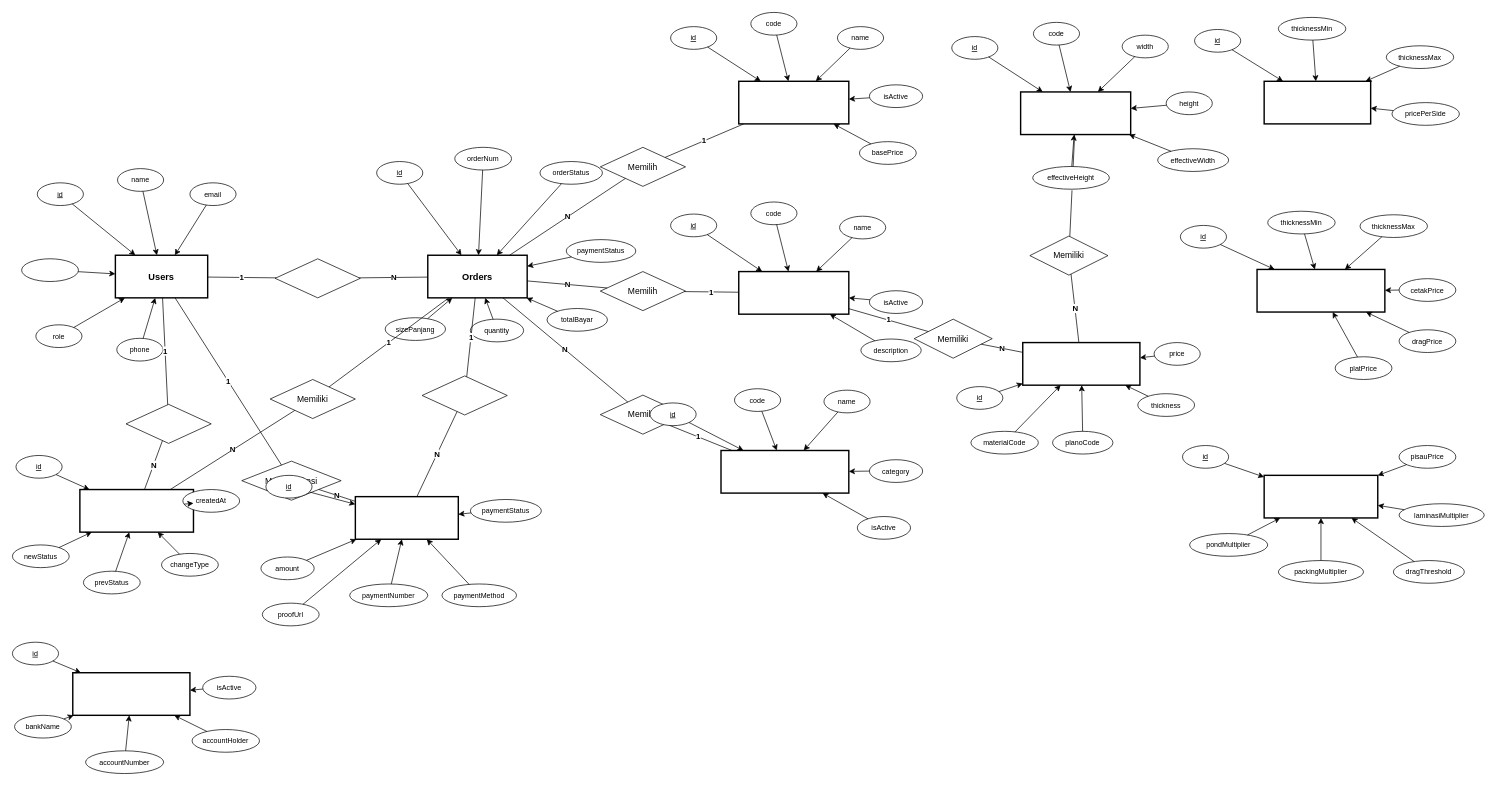
The diagram is 1497 pixels wide and 786 high, and some of its shapes have lost their labels. Each missing label, with the centre of its shape:
"Bank_Accounts" goes at point 131,694.
"Box_Models" goes at point 793,102.
"CmykBlok_Prices" goes at point 1320,290.
"Color_Prices" goes at point 1317,102.
"Finishing_Options" goes at point 784,471.
"Material_Prices" goes at point 1081,364.
"Materials" goes at point 793,293.
"Membayar" goes at point 464,395.
"Membuat" goes at point 317,278.
"Mengubah" goes at point 168,423.
"Order_History" goes at point 136,510.
"password" goes at point 49,270.
"Payments" goes at point 406,518.
"Plano_Types" goes at point 1075,113.
"Pricing_Config" goes at point 1320,496.
